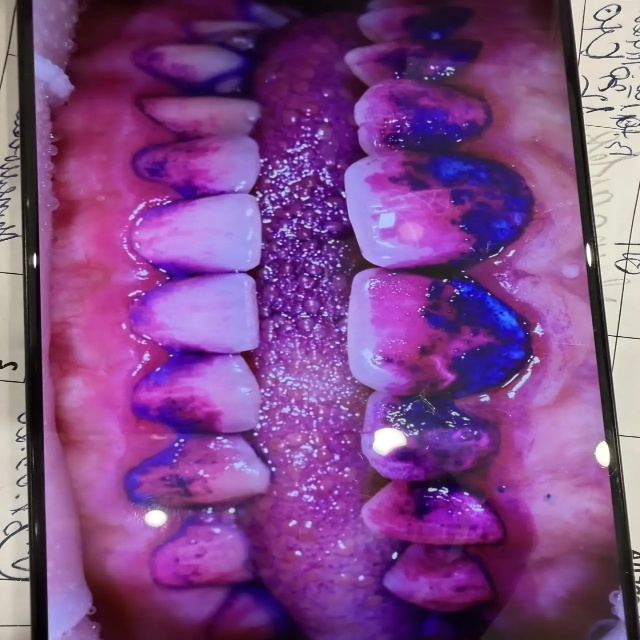clean_tooth: (582, 104, 639, 552), (571, 0, 639, 93), (0, 381, 27, 529), (0, 273, 22, 381), (0, 56, 17, 163), (0, 580, 29, 624), (0, 530, 28, 575), (0, 0, 14, 69), (0, 239, 22, 271)
plaque: (32, 0, 562, 639), (585, 589, 626, 639)
